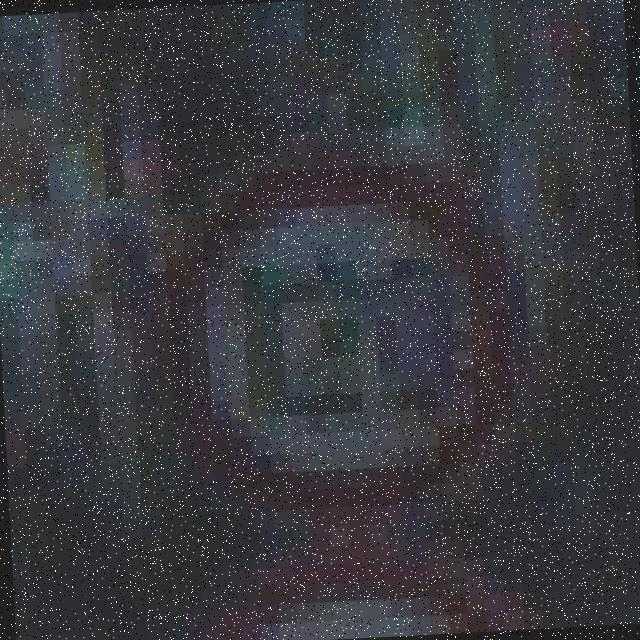Ograniczenie predkosci do 120: (157, 150, 543, 518)
